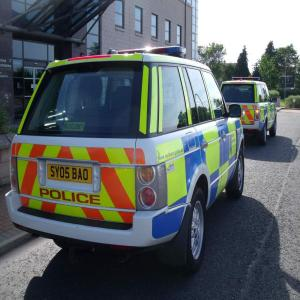Vehicle-registration-plate: (49, 165, 93, 184)
